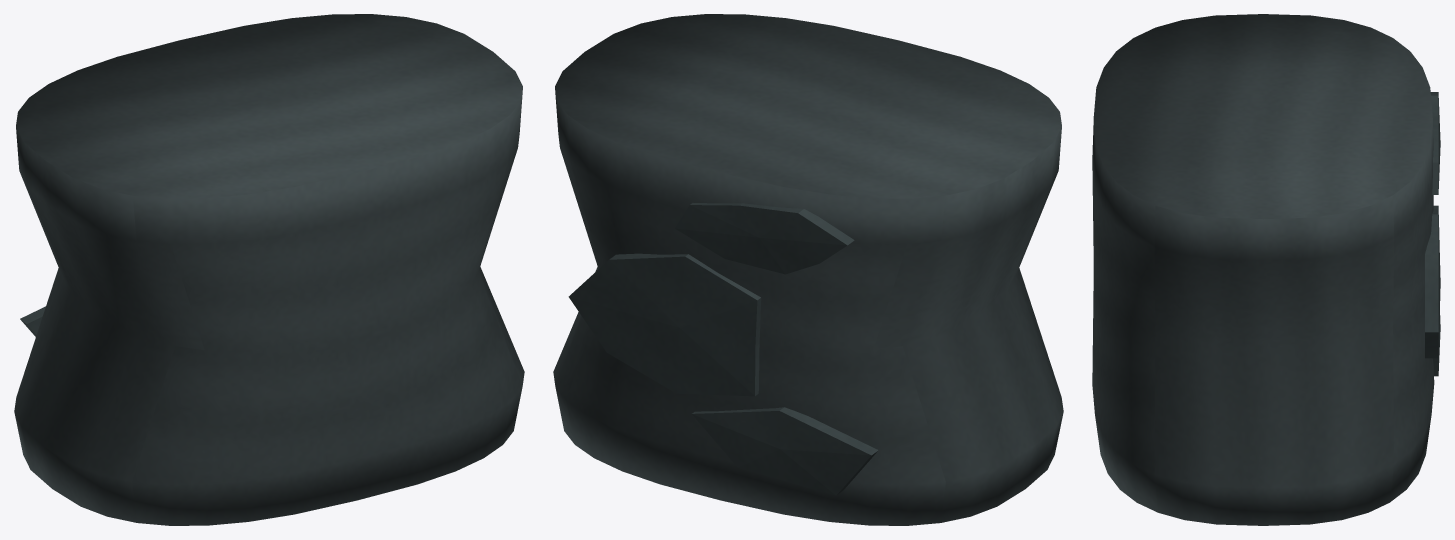
The model's file is spine_lod0.glb.
The picture shows the model from 3 angles, left to right: view 1: azimuth 30°, elevation 25°; view 2: azimuth 150°, elevation 25°; view 3: azimuth 270°, elevation 25°; orthographic projection. The views are drawn at different scales.
Visible parts, largest first — view 1: dormin_spine_LOD0; view 2: dormin_spine_LOD0; view 3: dormin_spine_LOD0.
Part boxes in pixels (box(x1,y1,x2,y2)): dormin_spine_LOD0: box(14, 14, 524, 525); dormin_spine_LOD0: box(553, 14, 1063, 525); dormin_spine_LOD0: box(1092, 14, 1440, 525).
Bounding box in the file's own units: 3.4 × 2.38 × 2.42.
2 materials, 2 textured.
